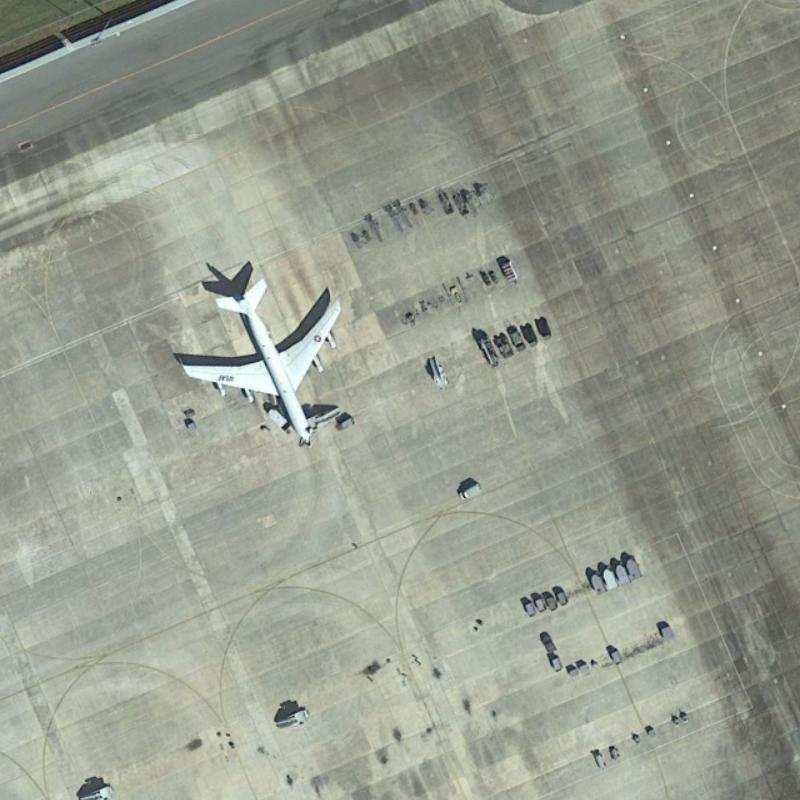A11: (175, 271, 342, 451)
